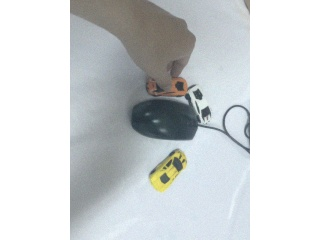mouse: (131, 97, 201, 140)
toy_car: (149, 144, 187, 193), (187, 83, 214, 124), (147, 77, 188, 97)
